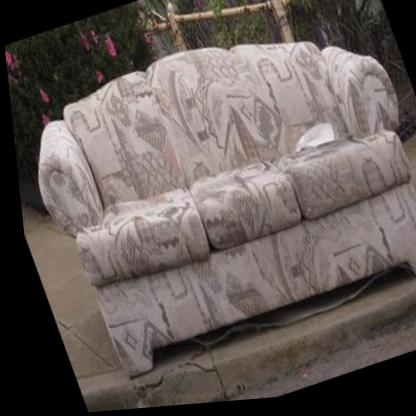Sofa: (1, 0, 416, 393)
